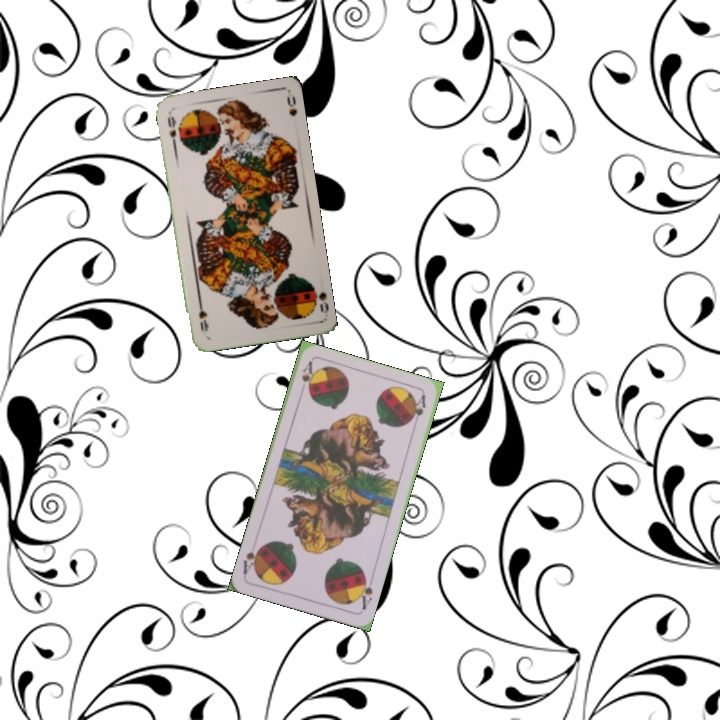SA: (354, 571, 376, 613), (298, 358, 316, 394)
SO: (306, 279, 331, 316), (163, 109, 179, 150)
